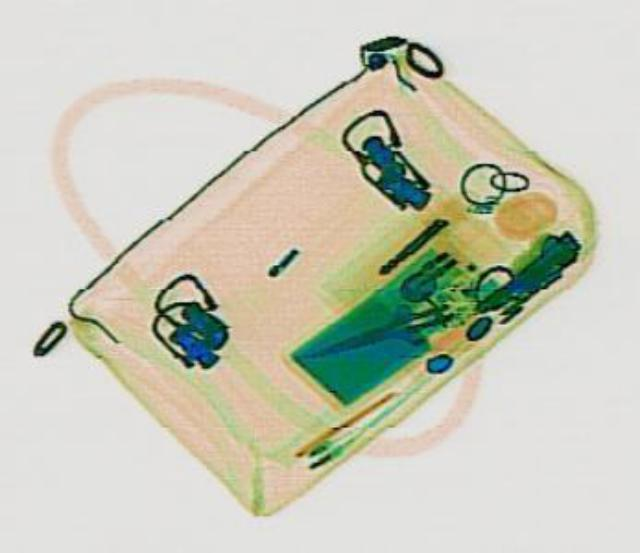Knife: (301, 296, 454, 362)
